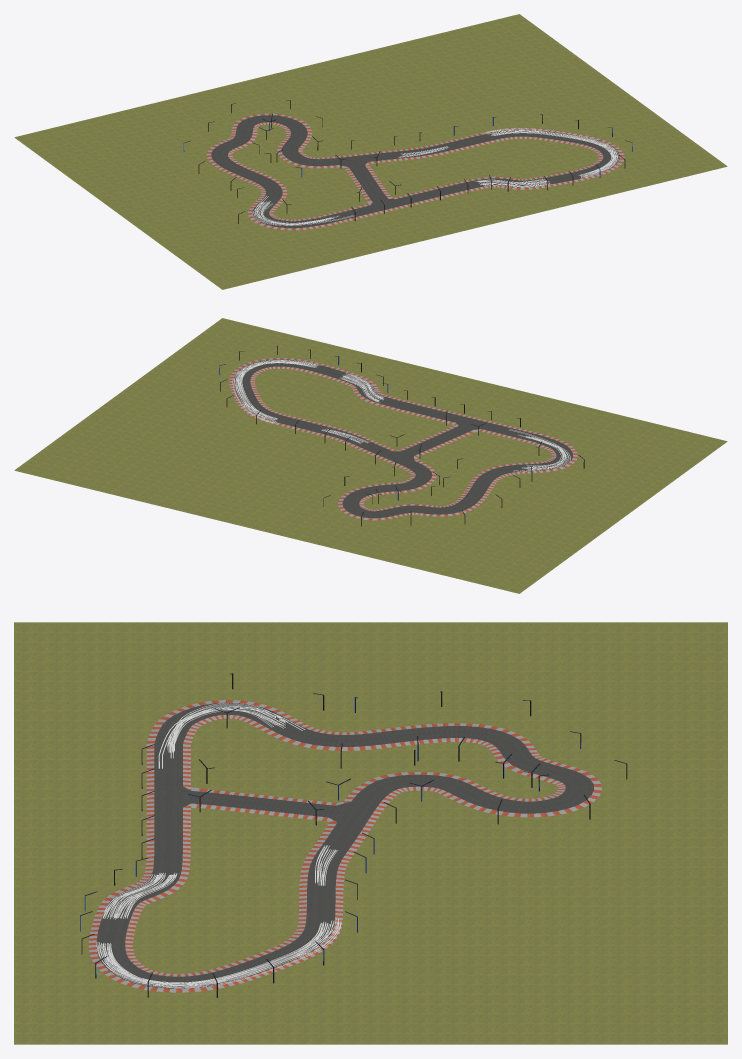
The model's file is Traffic.fbx.
3 views of the same model, one above another, from view 1: azimuth 30°, elevation 25°; view 2: azimuth 150°, elevation 25°; view 3: azimuth 270°, elevation 25° (orthographic). The views are drawn at different scales.
Visible parts, largest first — view 1: Плоскость, Плоскость.001, Плоскость.006, Плоскость.007; view 2: Плоскость, Плоскость.001, Плоскость.006, Плоскость.007; view 3: Плоскость, Плоскость.001, Плоскость.006, Плоскость.007, Плоскость.005.
Boxes of the visible parts, left/top/right/bottom form: Плоскость: left=14, top=14, right=727, bottom=289; Плоскость.001: left=206, top=113, right=624, bottom=230; Плоскость.006: left=484, top=128, right=619, bottom=178; Плоскость.007: left=252, top=196, right=354, bottom=225; Плоскость: left=14, top=318, right=727, bottom=593; Плоскость.001: left=229, top=358, right=577, bottom=520; Плоскость.006: left=232, top=360, right=319, bottom=423; Плоскость.007: left=509, top=429, right=570, bottom=471; Плоскость: left=14, top=622, right=727, bottom=1044; Плоскость.001: left=88, top=700, right=601, bottom=992; Плоскость.006: left=96, top=919, right=341, bottom=988; Плоскость.007: left=158, top=703, right=305, bottom=768; Плоскость.005: left=102, top=872, right=177, bottom=919.
Size of the model in its own units: 70000 by 1572 by 50000.
